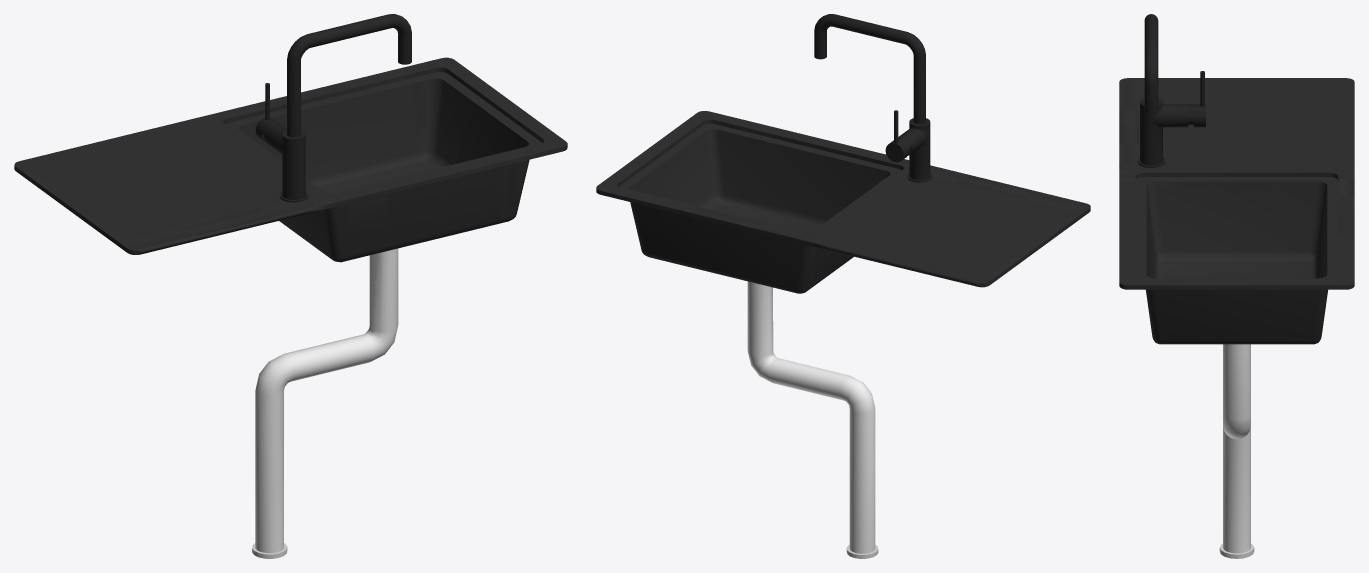
File: Sink02.glb
3 renders of one model, left to right at view 1: azimuth 30°, elevation 25°; view 2: azimuth 150°, elevation 25°; view 3: azimuth 270°, elevation 25°, orthographic. The views are drawn at different scales.
Visible parts, largest first — view 1: Sink02_model, SinkFaucet02; view 2: Sink02_model, SinkFaucet02, SinkFaucet02Handle; view 3: Sink02_model, SinkFaucet02, SinkFaucet02Handle.
Boxes of the visible parts, x1,y1,x2,y2 form: Sink02_model: [14, 57, 567, 558]; SinkFaucet02: [264, 14, 411, 202]; Sink02_model: [596, 111, 1090, 558]; SinkFaucet02: [814, 14, 932, 182]; SinkFaucet02Handle: [885, 110, 911, 162]; Sink02_model: [1119, 78, 1354, 558]; SinkFaucet02: [1137, 14, 1193, 167]; SinkFaucet02Handle: [1188, 71, 1205, 127].
Size of the model in its own units: 2.08 by 2.49 by 0.9963.
1 material, 1 textured.
